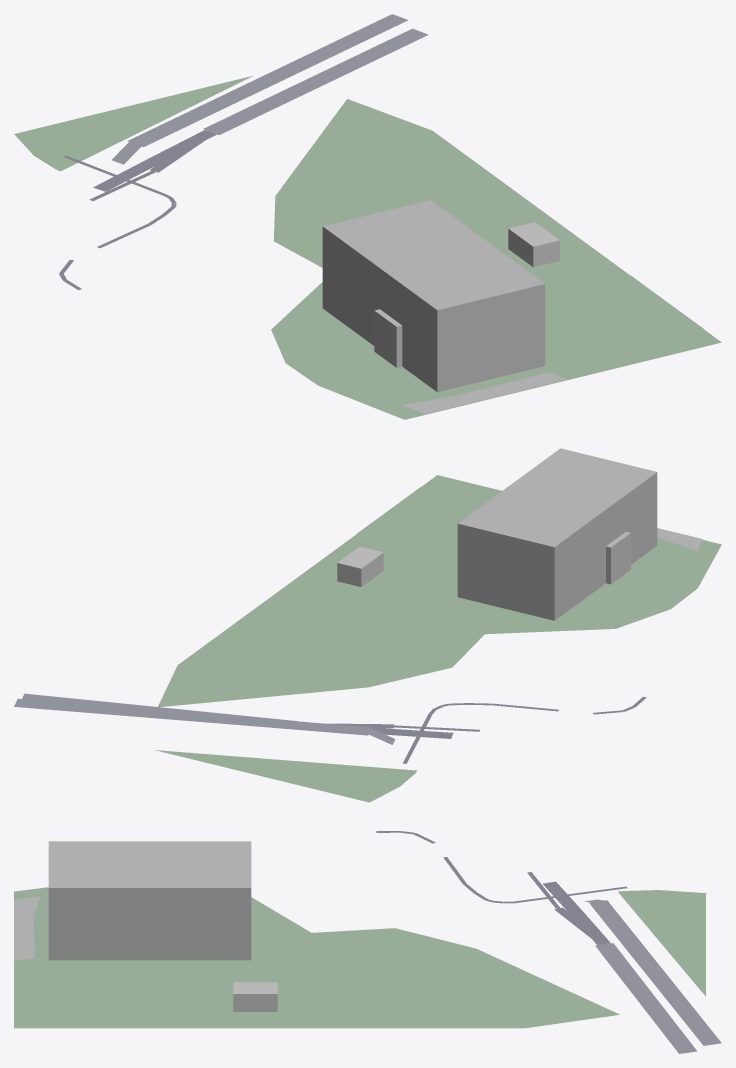
The model's file is 113_82_mid.glb.
The picture shows the model from 3 angles, top to bottom: view 1: azimuth 30°, elevation 25°; view 2: azimuth 150°, elevation 25°; view 3: azimuth 270°, elevation 25°; orthographic projection. The views are drawn at different scales.
Size of the model in its own units: 386 by 58.9 by 512.
